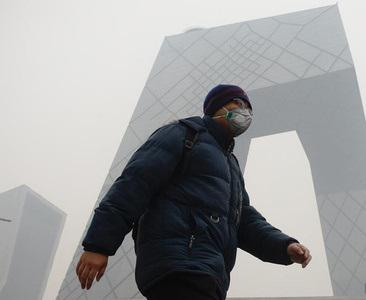OK: (227, 98, 254, 136)
